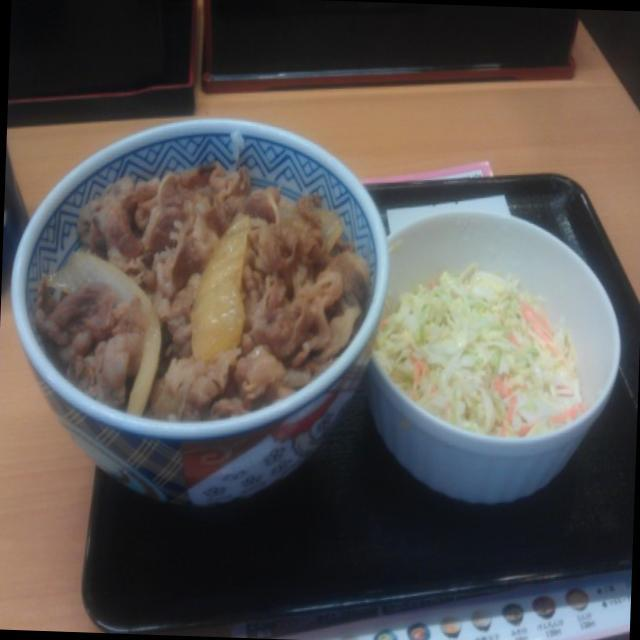Green Salad: (393, 248, 590, 436)
